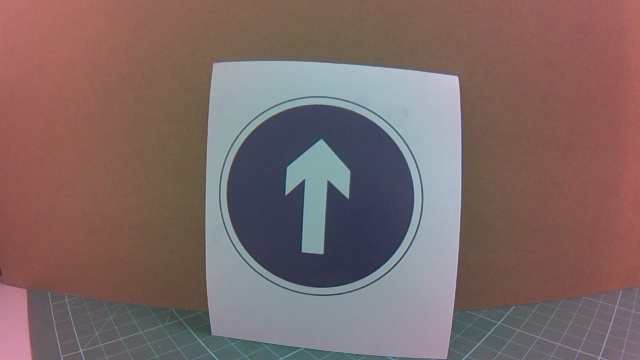forward: (239, 99, 422, 305)
